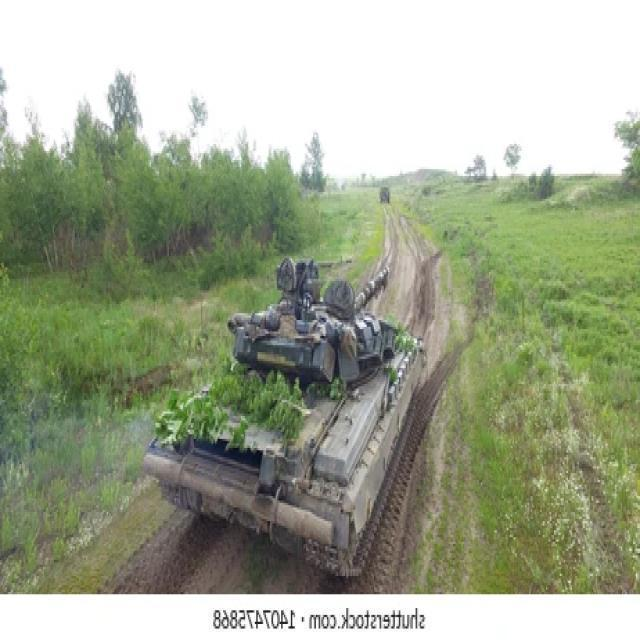Tanks: (143, 254, 426, 583)
